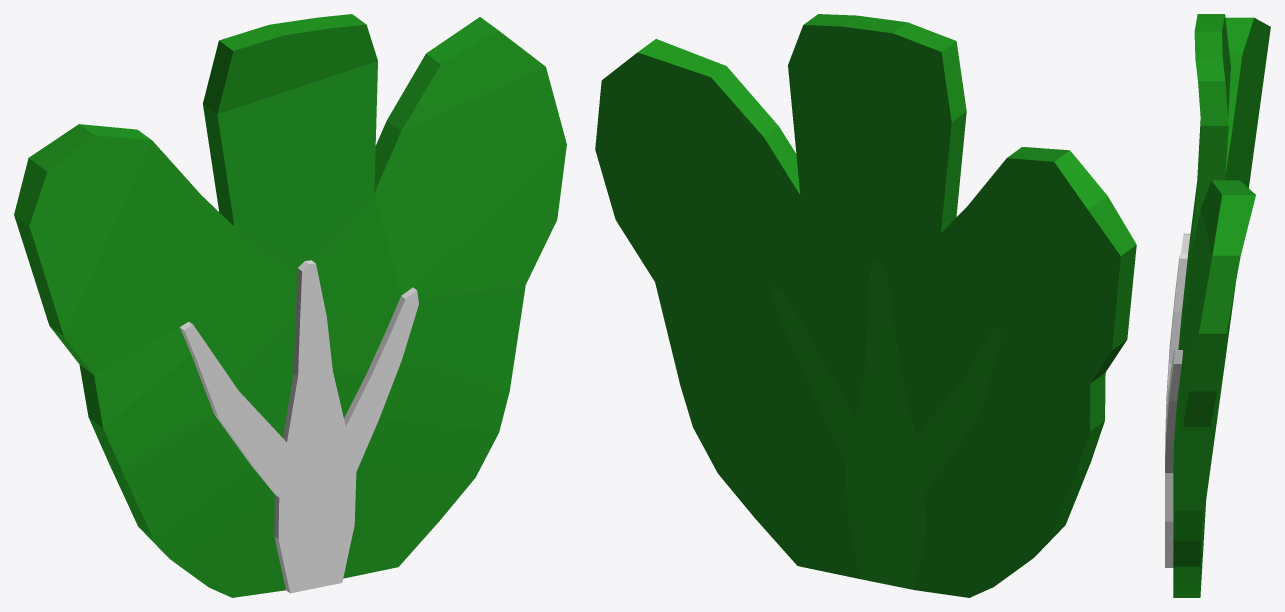
The model's file is cabage.fbx.
3 renders of one model, left to right at view 1: azimuth 30°, elevation 25°; view 2: azimuth 150°, elevation 25°; view 3: azimuth 270°, elevation 25°, orthographic. The views are drawn at different scales.
Visible parts, largest first — view 1: cabage; view 2: cabage; view 3: cabage.
Part boxes in pixels (x1=…): cabage: x1=14, y1=14, x2=566, y2=597; cabage: x1=595, y1=14, x2=1136, y2=597; cabage: x1=1165, y1=14, x2=1270, y2=597.
Size of the model in its own units: 2.1 by 2.1 by 0.389.
